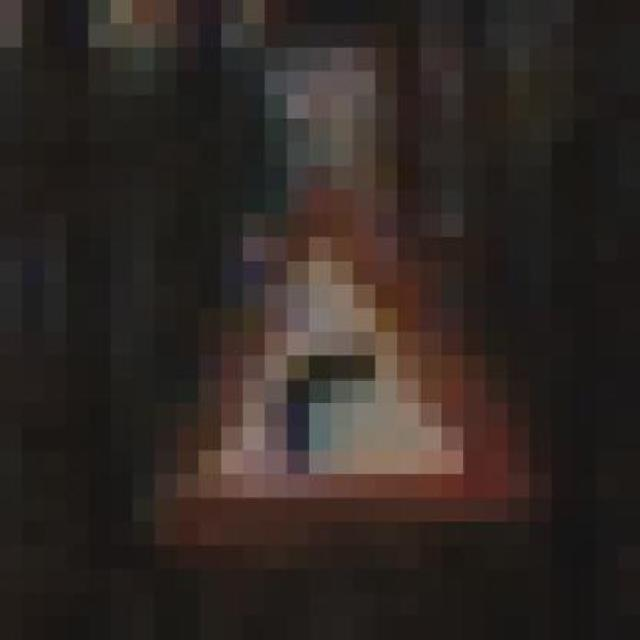Dangerous Rright Curve Ahead: (132, 166, 508, 569)
